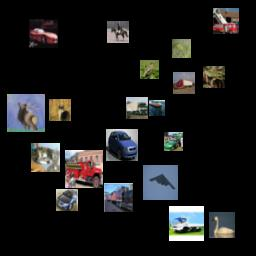airplane: (143, 165, 178, 200)
automobile: (106, 129, 138, 161), (29, 19, 58, 48), (56, 189, 78, 211), (164, 132, 183, 151)
bird: (209, 212, 235, 238), (140, 60, 159, 79), (172, 39, 191, 58)
cat: (31, 143, 60, 172)
deer: (7, 94, 45, 132), (49, 99, 71, 121)
frog: (203, 66, 225, 88)
ship: (149, 100, 165, 116)
truck: (65, 150, 103, 188), (169, 206, 204, 241), (104, 183, 133, 212), (213, 8, 239, 34), (126, 97, 148, 119), (173, 72, 195, 94)
